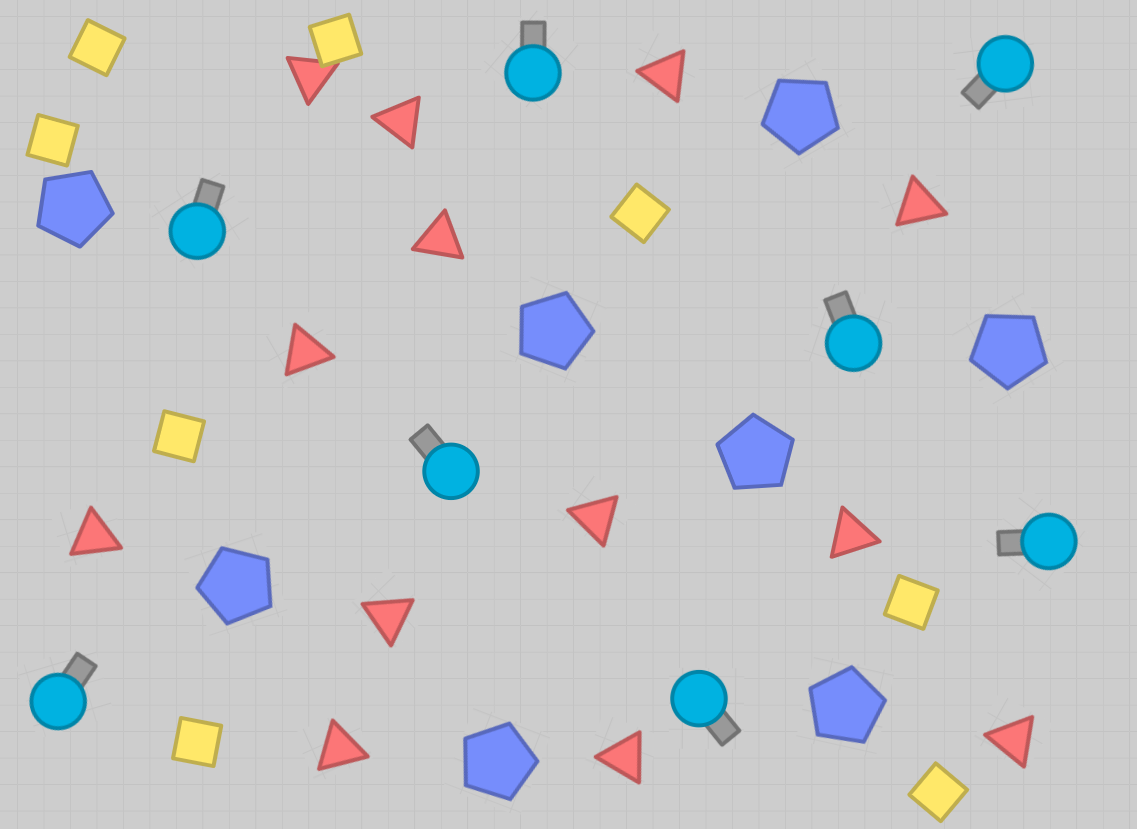Pentagon: (192, 541, 277, 628), (513, 287, 598, 373), (711, 409, 796, 493), (457, 718, 541, 802), (31, 167, 116, 250), (804, 663, 888, 746), (966, 311, 1050, 392), (759, 78, 841, 156)
Player: (403, 418, 482, 503), (666, 666, 744, 749), (26, 649, 101, 733), (960, 32, 1036, 113), (820, 288, 884, 376), (993, 508, 1080, 572), (166, 176, 229, 262), (502, 18, 564, 103)
Square: (903, 758, 972, 824), (605, 181, 673, 246), (65, 15, 127, 79), (881, 571, 943, 633), (302, 10, 365, 70), (22, 111, 81, 169), (150, 406, 208, 463), (166, 713, 224, 769)
Triangle: (628, 48, 701, 103), (276, 318, 338, 381), (310, 715, 374, 775), (354, 593, 421, 649), (561, 492, 625, 550), (888, 171, 952, 228), (280, 51, 342, 109), (407, 205, 468, 263), (64, 502, 125, 560), (367, 94, 429, 149), (828, 502, 884, 561), (981, 713, 1037, 771), (591, 728, 646, 784)
